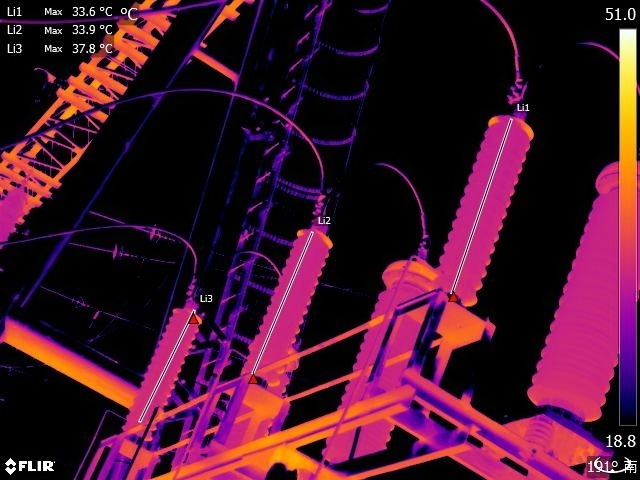lightning arrester: (211, 204, 339, 450), (429, 83, 540, 296), (112, 298, 214, 444)
potential transformer: (513, 147, 640, 419), (317, 238, 440, 472)
